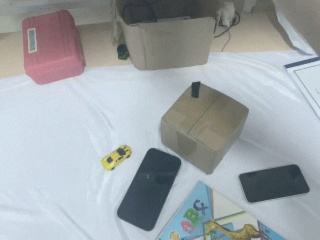book: (155, 180, 286, 240)
box: (160, 81, 249, 175), (113, 1, 224, 72), (21, 10, 86, 86)
phone: (116, 147, 182, 232), (238, 164, 311, 204)
toy_car: (100, 145, 132, 170)
